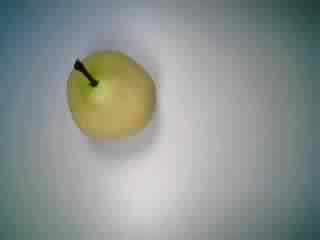pear: (57, 44, 162, 147)
